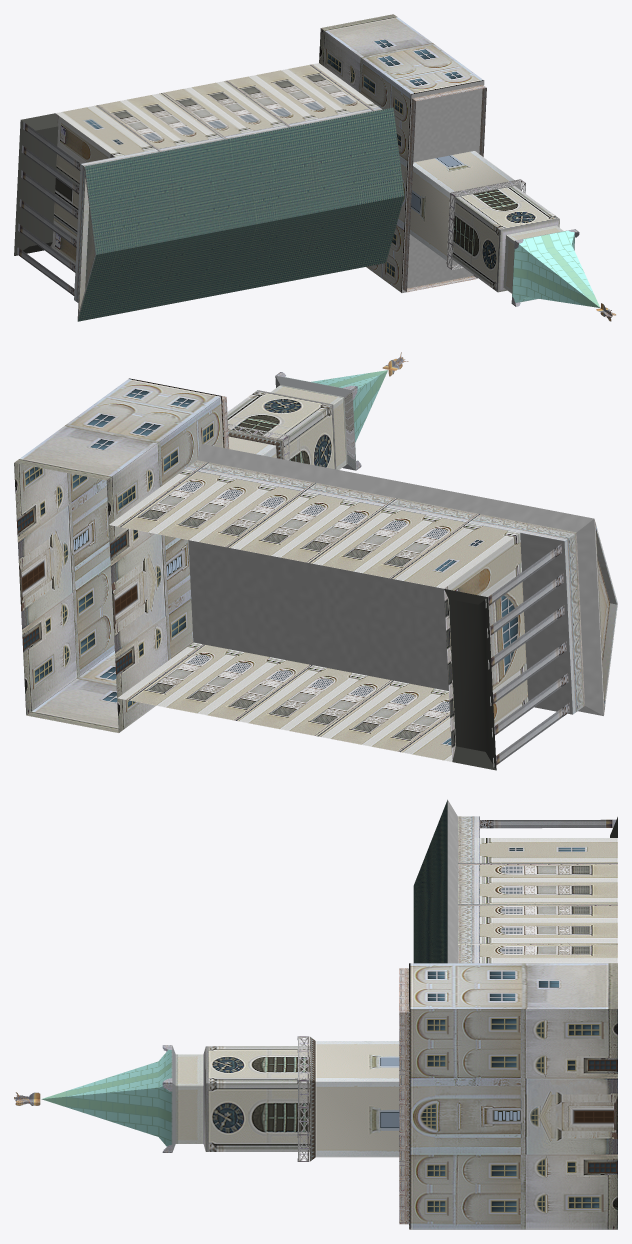
File: DEU_047_KARLSRUHE_EVANGEL_L.OBJ
3 views of the same model, one above another, from view 1: azimuth 30°, elevation 25°; view 2: azimuth 150°, elevation 25°; view 3: azimuth 270°, elevation 25° (orthographic). The views are drawn at different scales.
Visible parts, largest first — view 1: DEU_047_KARLSRUHE_EVANGEL_S002; view 2: DEU_047_KARLSRUHE_EVANGEL_S002; view 3: DEU_047_KARLSRUHE_EVANGEL_S002.
Part boxes in pixels (x1,y1,x2,y2): DEU_047_KARLSRUHE_EVANGEL_S002: (14, 14, 616, 321); DEU_047_KARLSRUHE_EVANGEL_S002: (14, 352, 617, 770); DEU_047_KARLSRUHE_EVANGEL_S002: (14, 799, 617, 1229).
Bounding box in the file's own units: 59.6 × 29.24 × 69.44.
Materials: 1 (1 with a texture image).
